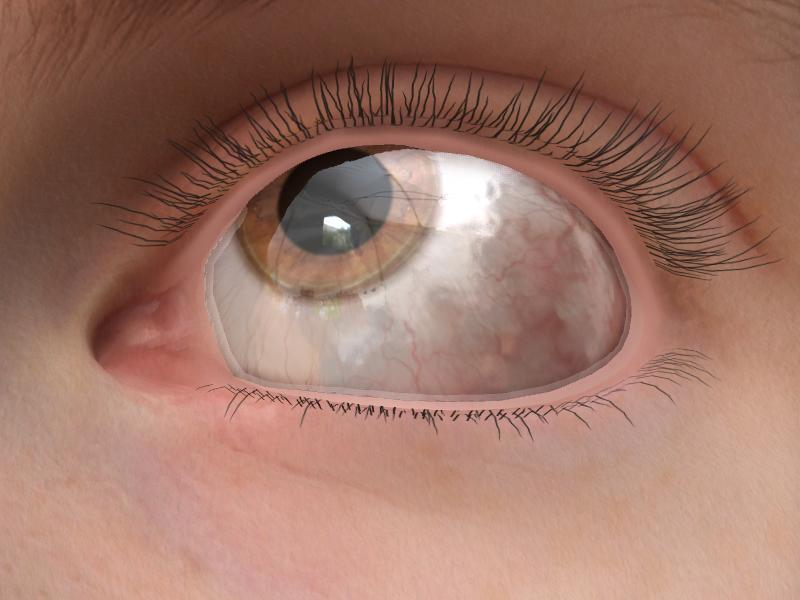eye: (234, 139, 438, 299)
